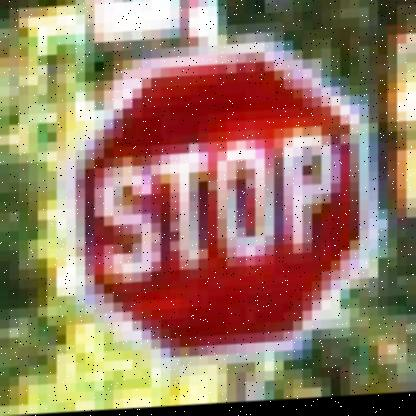Stop Sign: (63, 41, 375, 370)
